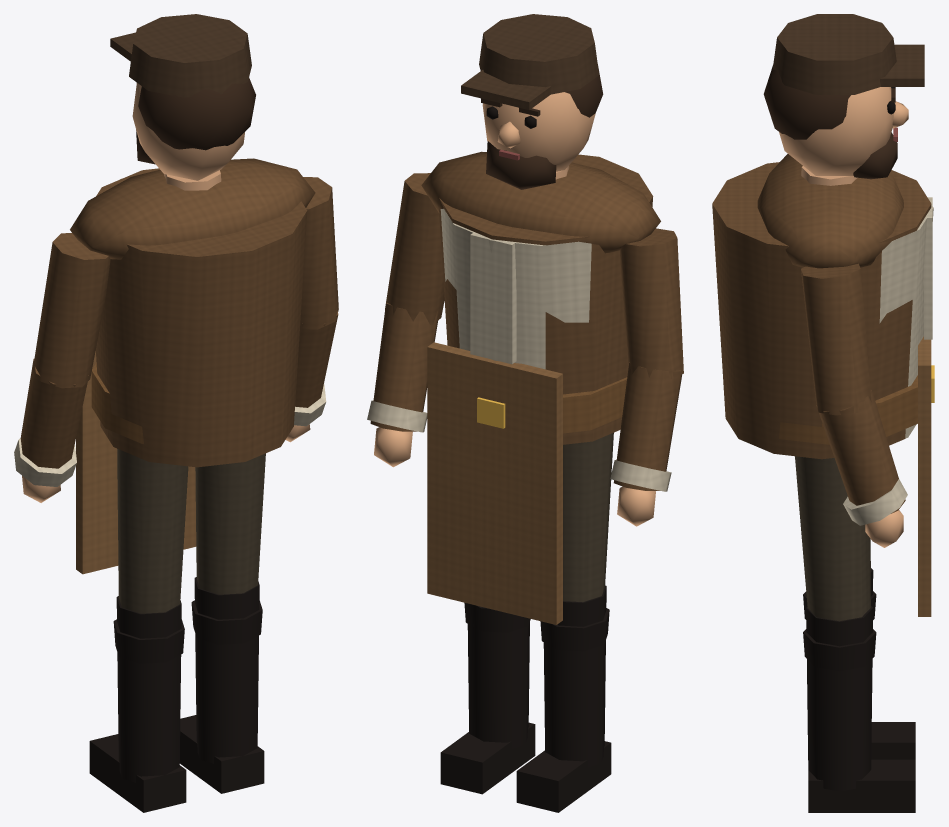
Rendered from shipwright.glb.
3 views of the same model, side by side, from view 1: azimuth 30°, elevation 25°; view 2: azimuth 150°, elevation 25°; view 3: azimuth 270°, elevation 25° (orthographic). The views are drawn at different scales.
Parts seen in each view (by area): view 1: Body, Head, ShinL, ShinR, LegL, LegR, ArmL, ForearmL, ArmR, ForearmR; view 2: Body, Head, ShinL, ShinR, ArmL, ForearmL, ForearmR, LegL, ArmR; view 3: Body, Head, ShinR, LegR, ArmR, ForearmR, ShinL.
Part boxes in pixels (x1=…): Body: x1=70, y1=158, x2=315, y2=574; Head: x1=110, y1=14, x2=255, y2=180; ShinL: x1=89, y1=596, x2=186, y2=812; ShinR: x1=179, y1=577, x2=264, y2=793; LegL: x1=117, y1=448, x2=188, y2=613; LegR: x1=195, y1=453, x2=265, y2=594; ArmL: x1=32, y1=233, x2=110, y2=388; ForearmL: x1=14, y1=358, x2=88, y2=502; ArmR: x1=300, y1=177, x2=338, y2=329; ForearmR: x1=285, y1=311, x2=338, y2=442; Body: x1=421, y1=151, x2=660, y2=624; Head: x1=461, y1=14, x2=603, y2=189; ShinL: x1=516, y1=585, x2=611, y2=812; ShinR: x1=440, y1=602, x2=535, y2=794; ArmL: x1=620, y1=228, x2=683, y2=379; ForearmL: x1=610, y1=362, x2=682, y2=526; ForearmR: x1=367, y1=302, x2=438, y2=467; LegL: x1=563, y1=432, x2=613, y2=602; ArmR: x1=385, y1=173, x2=444, y2=324; Body: x1=712, y1=154, x2=934, y2=616; Head: x1=763, y1=14, x2=924, y2=179; ShinR: x1=803, y1=606, x2=915, y2=812; LegR: x1=795, y1=456, x2=870, y2=621; ArmR: x1=801, y1=263, x2=871, y2=415; ForearmR: x1=816, y1=390, x2=907, y2=547; ShinL: x1=803, y1=568, x2=915, y2=759.
Size of the model in its own units: 0.78 by 1.84 by 0.4974.
Materials: 12 (6 with a texture image).
